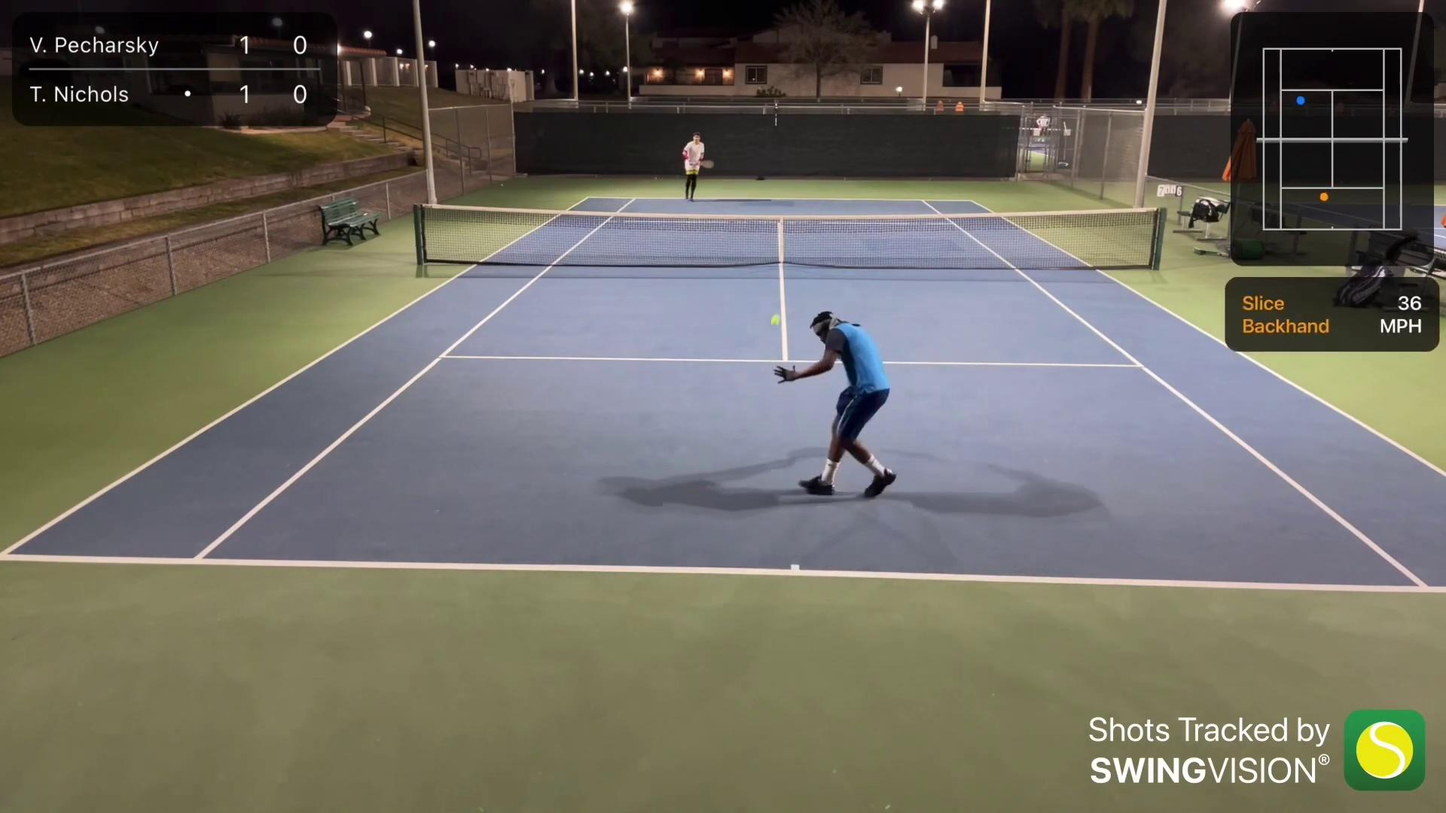ball: (769, 315, 781, 327)
